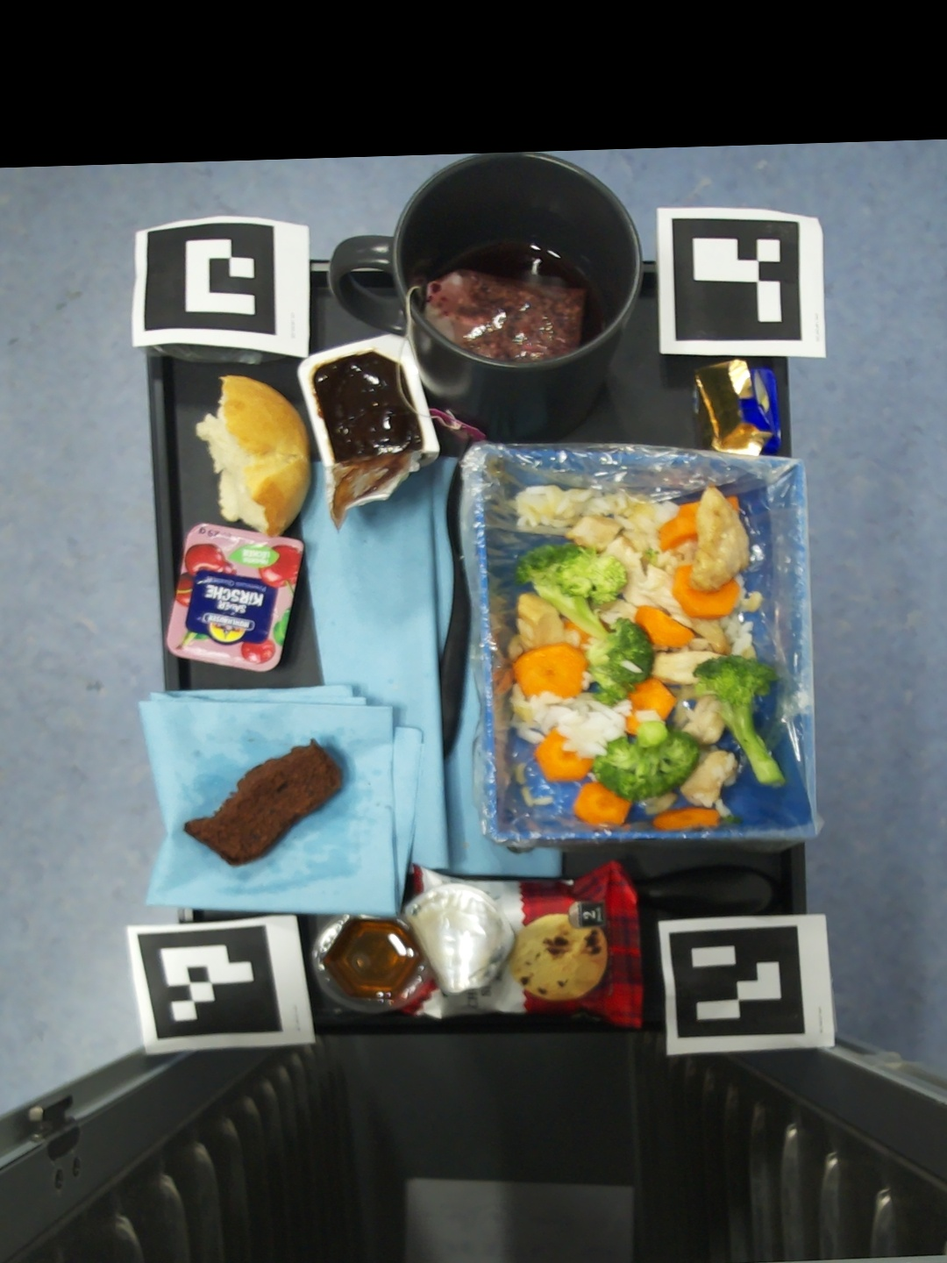bread_roll: (195, 376, 312, 539)
broccoli: (514, 542, 652, 703), (692, 655, 784, 786), (592, 721, 699, 800), (642, 548, 658, 561), (723, 816, 740, 822)
brownie: (185, 737, 341, 866)
butter: (688, 359, 781, 456)
carrots: (512, 644, 588, 698), (675, 565, 738, 619), (535, 728, 598, 781), (626, 679, 676, 731), (573, 782, 633, 824), (636, 606, 694, 649), (660, 501, 701, 551), (653, 808, 721, 830), (565, 622, 591, 644)
cherry_jam: (166, 523, 304, 672)
chicken: (566, 502, 658, 607), (690, 487, 750, 593), (651, 618, 732, 685), (680, 750, 737, 806), (518, 596, 561, 649), (645, 792, 678, 814)
cookie: (397, 860, 644, 1027)
honey: (312, 883, 516, 1013)
plum_jam: (297, 334, 440, 528)
rice: (508, 684, 630, 760), (626, 499, 698, 627), (506, 484, 650, 539), (670, 685, 725, 745), (716, 611, 757, 660), (579, 637, 616, 691), (515, 763, 555, 807), (594, 598, 637, 625), (734, 577, 762, 613), (652, 638, 713, 652), (507, 634, 530, 660), (715, 798, 734, 817), (560, 627, 579, 646), (693, 792, 712, 808), (636, 708, 658, 721), (621, 661, 642, 673), (723, 773, 737, 788), (640, 797, 658, 807)
tea_cup: (329, 151, 643, 443)
